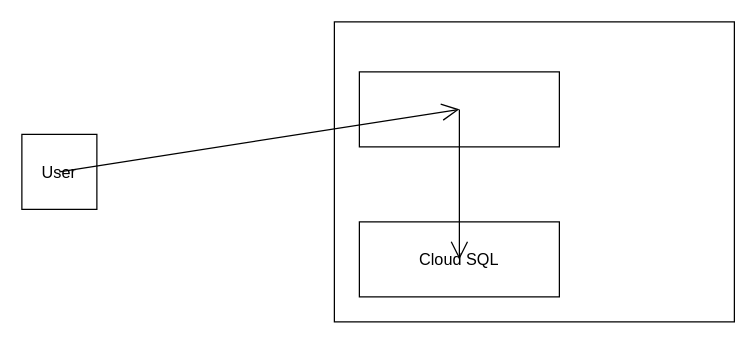
The diagram is 756 pixels wide and 344 high, and some of its shapes have lost their labels. The box of each missing label's shape, as (x1, y1, x2, y2) in pixels:
Cloud Run: (358, 71, 559, 147)
Project: (333, 21, 734, 322)
